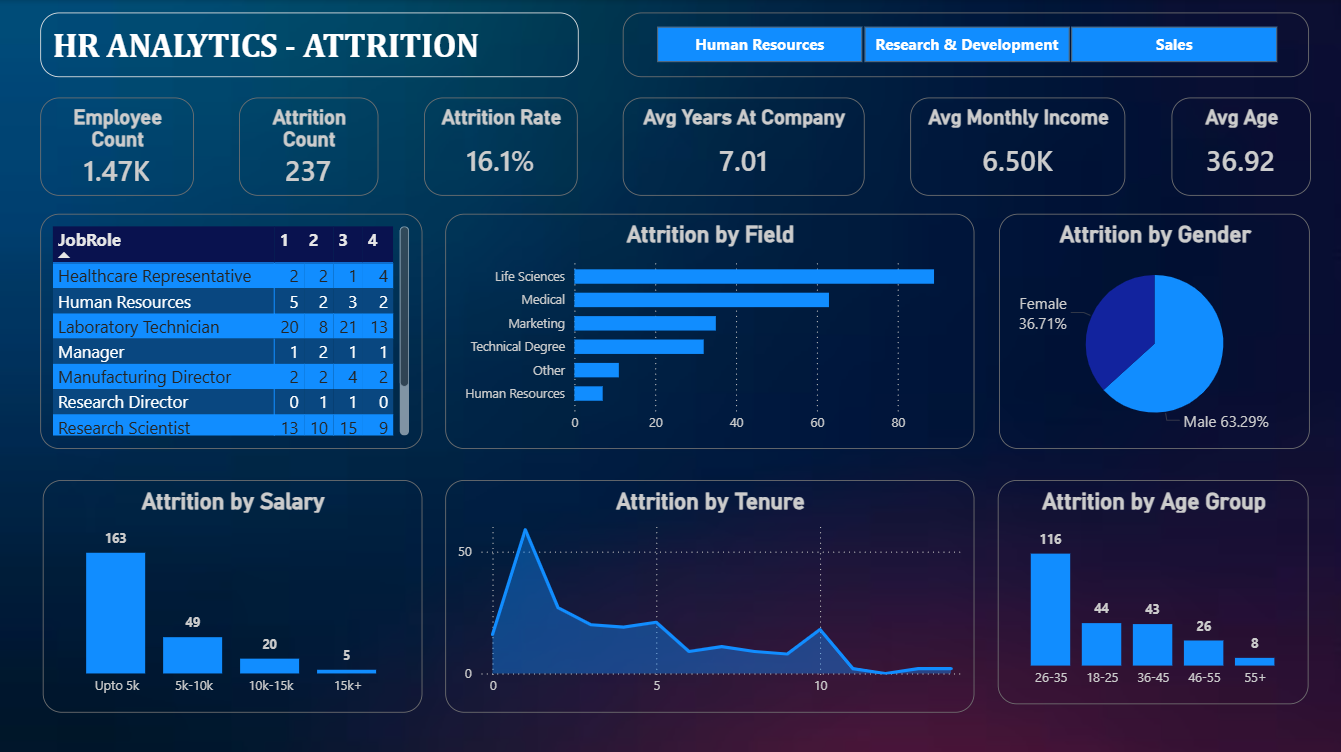

What the dashboard file says about the page in this screenshot:
{"tool":"powerbi","page":{"name":"Attrition","canvas":[1280,720],"ordinal":0},"visuals":[{"type":"textbox","box":[38.8,12.5,512.5,61.2],"z":0},{"type":"cardVisual","title":"Employee Count","fields":{"Data":["CountNonNull(HR_Analytics.EmpID)"]},"box":[38.8,92.5,146.2,93.8],"z":1000},{"type":"pieChart","title":"Attrition by Gender","fields":{"Category":["HR_Analytics.Gender"],"Y":["Sum(HR_Analytics.AttritionNum)"]},"box":[952.5,203.8,296.2,223.8],"z":2000},{"type":"clusteredBarChart","title":"Attrition by Field","fields":{"Category":["HR_Analytics.EducationField"],"Y":["Sum(HR_Analytics.AttritionNum)"]},"box":[425,203.8,503.8,223.8],"z":3000},{"type":"cardVisual","title":"Attrition Count","fields":{"Data":["Sum(HR_Analytics.AttritionNum)"]},"box":[228.5,92.5,132.5,93.8],"z":4000},{"type":"cardVisual","title":"Attrition Rate","fields":{"Data":["HR_Analytics.Attrition Rate"]},"box":[404.5,92.5,146.2,93.8],"z":5000},{"type":"cardVisual","title":"Avg Age","fields":{"Data":["Avg(HR_Analytics.Age)"]},"box":[1116.2,92.5,132.5,93.8],"z":6000},{"type":"cardVisual","title":"Avg Monthly Income","fields":{"Data":["Avg(HR_Analytics.MonthlyIncome)"]},"box":[867.8,92.5,205,93.8],"z":7000},{"type":"cardVisual","title":"Avg Years At Company","fields":{"Data":["Avg(HR_Analytics.YearsAtCompany)"]},"box":[594.2,92.5,230,93.8],"z":8000},{"type":"clusteredColumnChart","title":"Attrition by Age Group","fields":{"Category":["HR_Analytics.AgeGroup"],"Y":["Sum(HR_Analytics.AttritionNum)"]},"box":[951.2,457.5,296.2,213.8],"z":9000},{"type":"pivotTable","title":"Job role - Job Satisfaction","fields":{"Rows":["HR_Analytics.JobRole"],"Columns":["HR_Analytics.JobSatisfaction"],"Values":["Sum(HR_Analytics.AttritionNum)"]},"box":[38.8,203.8,363.8,223.8],"z":10000},{"type":"clusteredColumnChart","title":"Attrition by Salary","fields":{"Category":["HR_Analytics.SalarySlab"],"Y":["Sum(HR_Analytics.AttritionNum)"]},"box":[41.2,457.5,361.2,221.2],"z":11000},{"type":"areaChart","title":"Attrition by Tenure","fields":{"Category":["HR_Analytics.YearsAtCompany"],"Y":["Sum(HR_Analytics.AttritionNum)"]},"box":[425,457.5,503.8,221.2],"z":12000},{"type":"slicer","fields":{"Values":["HR_Analytics.Department"]},"box":[593.8,12.5,653.8,61.2],"z":13000}]}

Visuals, with their boxes in screenshot pixels (x1, y1, x2, y2), scaled from the page's 1280x720 canvas onto the 1341x752 screenshot:
textbox: (41,13,578,77)
"Employee Count" cardVisual: (41,97,194,195)
"Attrition by Gender" pieChart: (998,213,1308,447)
"Attrition by Field" clusteredBarChart: (445,213,973,447)
"Attrition Count" cardVisual: (239,97,378,195)
"Attrition Rate" cardVisual: (424,97,577,195)
"Avg Age" cardVisual: (1169,97,1308,195)
"Avg Monthly Income" cardVisual: (909,97,1124,195)
"Avg Years At Company" cardVisual: (623,97,863,195)
"Attrition by Age Group" clusteredColumnChart: (997,478,1307,701)
"Job role - Job Satisfaction" pivotTable: (41,213,422,447)
"Attrition by Salary" clusteredColumnChart: (43,478,422,709)
"Attrition by Tenure" areaChart: (445,478,973,709)
slicer - HR_Analytics.Department: (622,13,1307,77)
